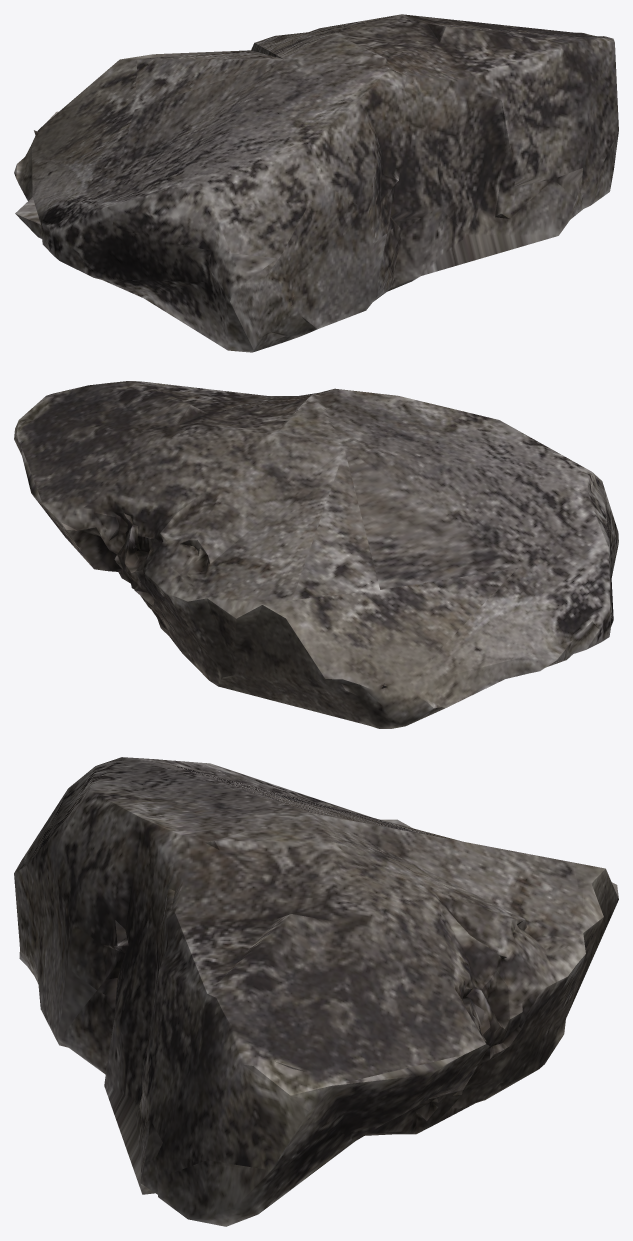
The model's file is RockB.fbx.
The picture shows the model from 3 angles, top to bottom: view 1: azimuth 30°, elevation 25°; view 2: azimuth 150°, elevation 25°; view 3: azimuth 270°, elevation 25°; orthographic projection. The views are drawn at different scales.
Parts seen in each view (by area): view 1: RockBTop_geo, RockBBot_geo; view 2: RockBTop_geo, RockBBot_geo; view 3: RockBTop_geo, RockBBot_geo.
Boxes of the visible parts, <box> form: RockBTop_geo: <box>96,14,618,258</box>; RockBBot_geo: <box>14,53,618,352</box>; RockBTop_geo: <box>14,381,610,599</box>; RockBBot_geo: <box>46,504,618,728</box>; RockBTop_geo: <box>26,757,583,1173</box>; RockBBot_geo: <box>14,772,618,1226</box>.
Bounding box in the file's own units: 220 × 75.18 × 154.
1 material, 1 textured.
